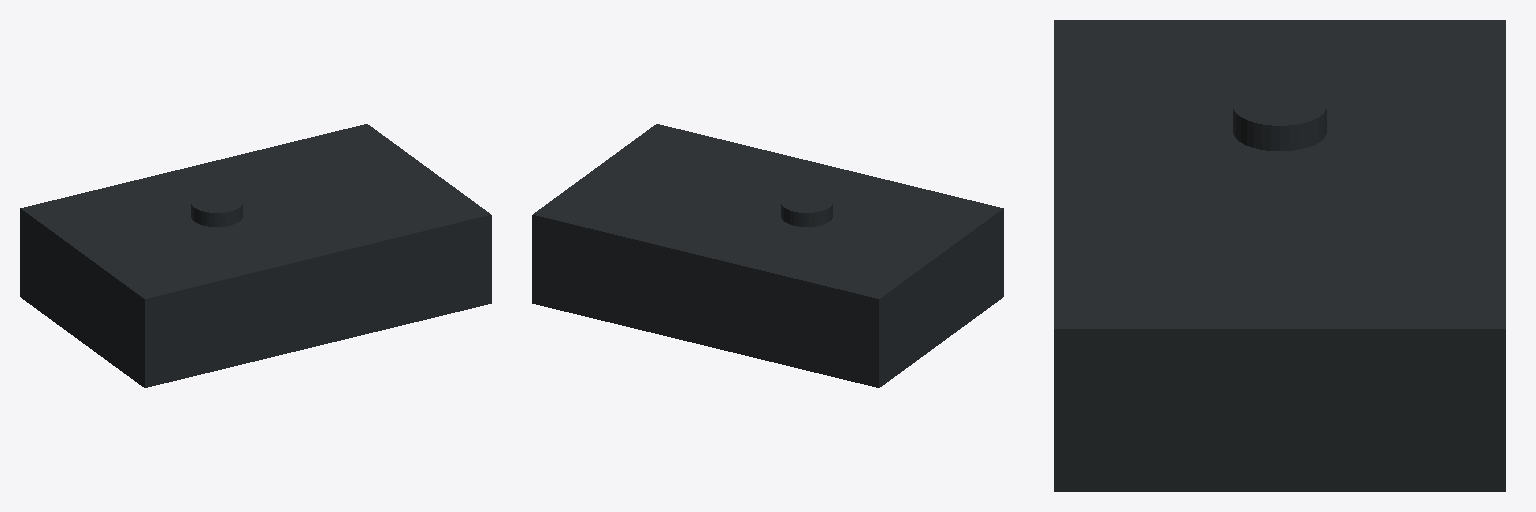
URDF robot description (kachaka):
<?xml version="1.0" ?>
<!-- =================================================================================== -->
<!-- |    This document was autogenerated by xacro from kachaka.urdf.xacro             | -->
<!-- |    EDITING THIS FILE BY HAND IS NOT RECOMMENDED                                 | -->
<!-- =================================================================================== -->
<robot name="kachaka">
  <material name="body">
    <color rgba="0.2175 0.2355 0.246 1.0"/>
  </material>
  <material name="tire">
    <color rgba="0.3 0.3 0.3 1.0"/>
  </material>
  <material name="black">
    <color rgba="0.0 0.0 0.0 1.0"/>
  </material>
  <link name="base_footprint"/>
  <link name="base_link">
    <inertial>
      <mass value="10"/>
      <origin rpy="0 0 0" xyz="0 0 0"/>
      <inertia ixx="0.05552083333333333" ixy="0" ixz="0" iyy="0.13232833333333333" iyz="0" izz="0.1728075"/>
    </inertial>
    <visual>
      <origin rpy="0 0 0" xyz="0.0435 0.0 0.0475"/>
      <geometry>
        <box size="0.387 0.240 0.095"/>
      </geometry>
      <material name="body"/>
    </visual>
    <collision>
      <origin rpy="0 0 0" xyz="0.0435 0.0 0.0475"/>
      <geometry>
        <box size="0.387 0.240 0.095"/>
      </geometry>
      <material name="body"/>
    </collision>
  </link>
  <joint name="lidar_joint" type="fixed">
    <parent link="base_link"/>
    <child link="laser_frame"/>
    <origin rpy="0 0 1.5707963267948966" xyz="0.156 0 0.1049"/>
  </joint>
  <joint name="docking_joint" type="prismatic">
    <parent link="base_link"/>
    <child link="docking_link"/>
    <axis xyz="0 0 1.0"/>
    <origin rpy="0 0 0" xyz="0 0 0"/>
    <limit effort="1.0" lower="0.0" upper="0.012" velocity="1.0"/>
  </joint>
  <joint name="camera_front_joint" type="fixed">
    <parent link="base_link"/>
    <child link="camera_front_link"/>
    <origin rpy="-1.5707963267948966 0 -1.5707963267948966" xyz="0.20959999999999998 0 0.070"/>
  </joint>
  <joint name="camera_back_joint" type="fixed">
    <parent link="base_link"/>
    <child link="camera_back_link"/>
    <origin rpy="-1.5707963267948966 0 1.5707963267948966" xyz="-0.13999999999999999 0 0.070"/>
  </joint>
  <joint name="tof_joint" type="fixed">
    <parent link="base_link"/>
    <child link="tof_link"/>
    <origin rpy="-0.7853981633974483 0 -1.5707963267948966" xyz="0.221 0.0 0.0418"/>
  </joint>
  <link name="base_r_drive_wheel_link">
    <inertial>
      <mass value="0.2"/>
      <!-- TODO - Update mass value -->
      <origin rpy="1.5707963267948966 0 0" xyz="0 0 0"/>
      <!-- Bug - inertial rotation is not reflected in Rviz2 -->
      <!-- https://github.com/ros2/rviz/pull/1171 -->
      <inertia ixx="0.00011166666666666665" ixy="0" ixz="0" iyy="0.00011166666666666665" iyz="0" izz="0.0002025"/>
    </inertial>
    <visual>
      <origin rpy="1.5707963267948966 0 0" xyz="0 0 0"/>
      <geometry>
        <cylinder length="0.025" radius="0.045"/>
      </geometry>
      <material name="tire"/>
    </visual>
    <collision>
      <origin rpy="1.5707963267948966 0 0" xyz="0 0 0"/>
      <geometry>
        <cylinder length="0.025" radius="0.045"/>
      </geometry>
      <material name="tire"/>
    </collision>
  </link>
  <link name="laser_frame"/>
  <link name="docking_link">
    <inertial>
      <mass value="0.2"/>
      <!-- TODO - Update mass value -->
      <origin rpy="0 0 0" xyz="0 0 0.1075"/>
      <inertia ixx="3.5000000000000004e-05" ixy="0" ixz="0" iyy="3.5000000000000004e-05" iyz="0" izz="6.250000000000001e-05"/>
    </inertial>
    <visual>
      <origin rpy="0 0 0" xyz="0 0 0.1075"/>
      <geometry>
        <cylinder length="0.015" radius="0.025"/>
      </geometry>
      <material name="body"/>
    </visual>
    <collision>
      <origin rpy="0 0 0" xyz="0 0 0.1075"/>
      <geometry>
        <cylinder length="0.015" radius="0.025"/>
      </geometry>
      <material name="body"/>
    </collision>
  </link>
  <link name="camera_front_link"/>
  <link name="camera_back_link"/>
  <link name="tof_link"/>
  <link name="base_l_drive_wheel_link">
    <inertial>
      <mass value="0.2"/>
      <origin rpy="1.5707963267948966 0 0" xyz="0 0 0"/>
      <!-- Bug - inertial rotation is not reflected in Rviz2 -->
      <!-- https://github.com/ros2/rviz/pull/1171 -->
      <inertia ixx="0.00011166666666666665" ixy="0" ixz="0" iyy="0.00011166666666666665" iyz="0" izz="0.0002025"/>
    </inertial>
    <visual>
      <origin rpy="1.5707963267948966 0 0" xyz="0 0 0"/>
      <geometry>
        <cylinder length="0.025" radius="0.045"/>
      </geometry>
      <material name="tire"/>
    </visual>
    <collision>
      <origin rpy="1.5707963267948966 0 0" xyz="0 0 0"/>
      <geometry>
        <cylinder length="0.025" radius="0.045"/>
      </geometry>
      <material name="tire"/>
    </collision>
  </link>
  <joint name="base_footprint_joint" type="fixed">
    <parent link="base_footprint"/>
    <child link="base_link"/>
  </joint>
  <joint name="base_r_drive_wheel_joint" type="continuous">
    <parent link="base_link"/>
    <child link="base_r_drive_wheel_link"/>
    <origin rpy="0 0 0" xyz="0.0 -0.100 0.045"/>
    <axis xyz="0 1 0"/>
    <limit effort="100" velocity="10"/>
  </joint>
  <joint name="base_l_drive_wheel_joint" type="continuous">
    <parent link="base_link"/>
    <child link="base_l_drive_wheel_link"/>
    <origin rpy="0 0 0" xyz="0.0 0.100 0.045"/>
    <axis xyz="0 1 0"/>
    <limit effort="100" velocity="10"/>
  </joint>
  <link name="imu_link"/>
  <joint name="imu_joint" type="fixed">
    <parent link="base_link"/>
    <child link="imu_link"/>
    <origin rpy="0 0 0" xyz="0.0756 -0.0655 0.05146"/>
  </joint>
</robot>

--- What the picture shows (computed from the rendered views, not written in the file) ---
3 views of the same robot in one strip: view 1: azimuth 30°, elevation 25°; view 2: azimuth 150°, elevation 25°; view 3: azimuth 270°, elevation 25° (orthographic).
Model kachaka with 10 links and 9 joints (2 continuous, 1 prismatic, 6 fixed), rooted at base_footprint, posed every joint at zero.
Links seen in each view (by area): view 1: base_link, docking_link; view 2: base_link, docking_link; view 3: base_link, docking_link.
Boxes of the visible links, x1,y1,x2,y2 form: base_link: [20, 124, 491, 387]; docking_link: [191, 191, 242, 226]; base_link: [532, 124, 1003, 387]; docking_link: [781, 191, 832, 226]; base_link: [1054, 20, 1505, 491]; docking_link: [1233, 86, 1326, 150].
Bounding box of the posed robot: 0.387 × 0.24 × 0.115 m (x, y, z).
Geometry: primitives only (box / cylinder / sphere), no mesh files.